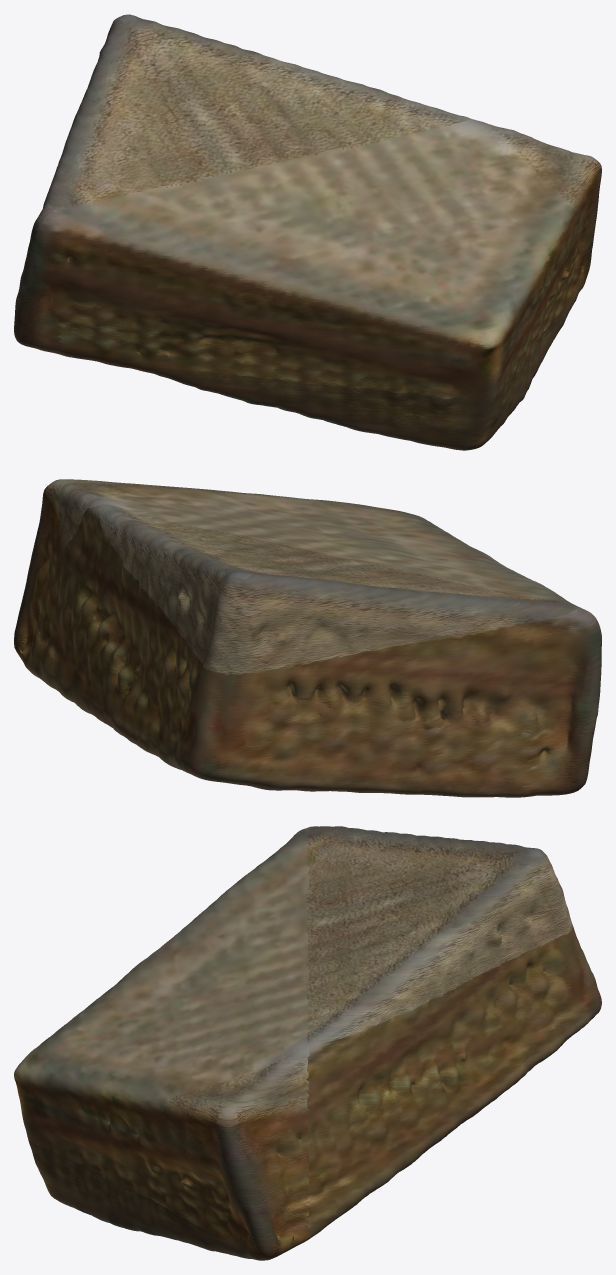
Rendered from kfl-2302.glb.
3 renders of one model, top to bottom at view 1: azimuth 30°, elevation 25°; view 2: azimuth 150°, elevation 25°; view 3: azimuth 270°, elevation 25°, orthographic. The views are drawn at different scales.
Visible parts, largest first — view 1: geometry_0; view 2: geometry_0; view 3: geometry_0.
Boxes of the visible parts, x1=… form: geometry_0: x1=14, y1=14, x2=601, y2=450; geometry_0: x1=14, y1=479, x2=601, y2=797; geometry_0: x1=14, y1=826, x2=601, y2=1260.
Size of the model in its own units: 0.9937 by 0.5067 by 0.9286.
1 material, 1 textured.
